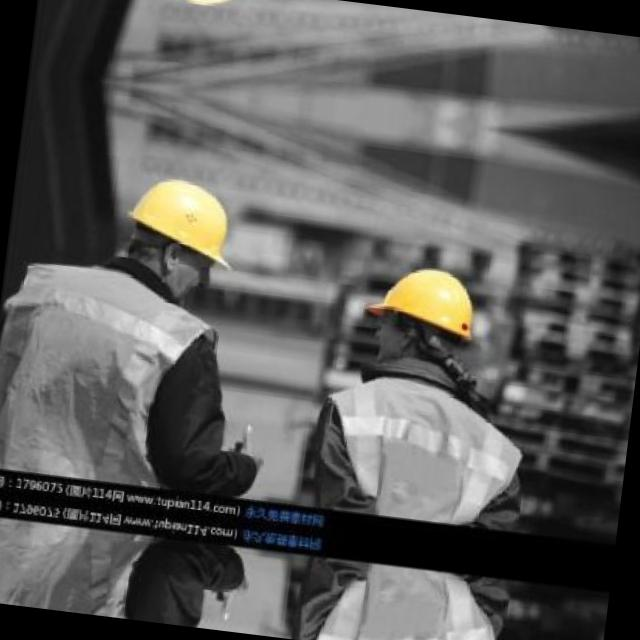helmet: (112, 160, 242, 302), (344, 253, 488, 379), (145, 0, 265, 22)
